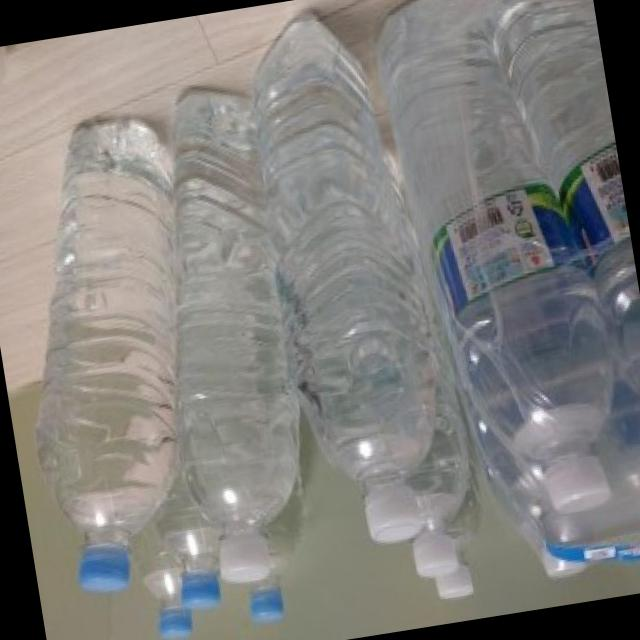plastic_bottle: (371, 0, 634, 528), (239, 7, 462, 554), (0, 108, 242, 601), (124, 81, 340, 589), (480, 0, 640, 445), (393, 411, 485, 580), (232, 480, 324, 620), (160, 512, 227, 614), (426, 504, 494, 602), (140, 554, 197, 640)
